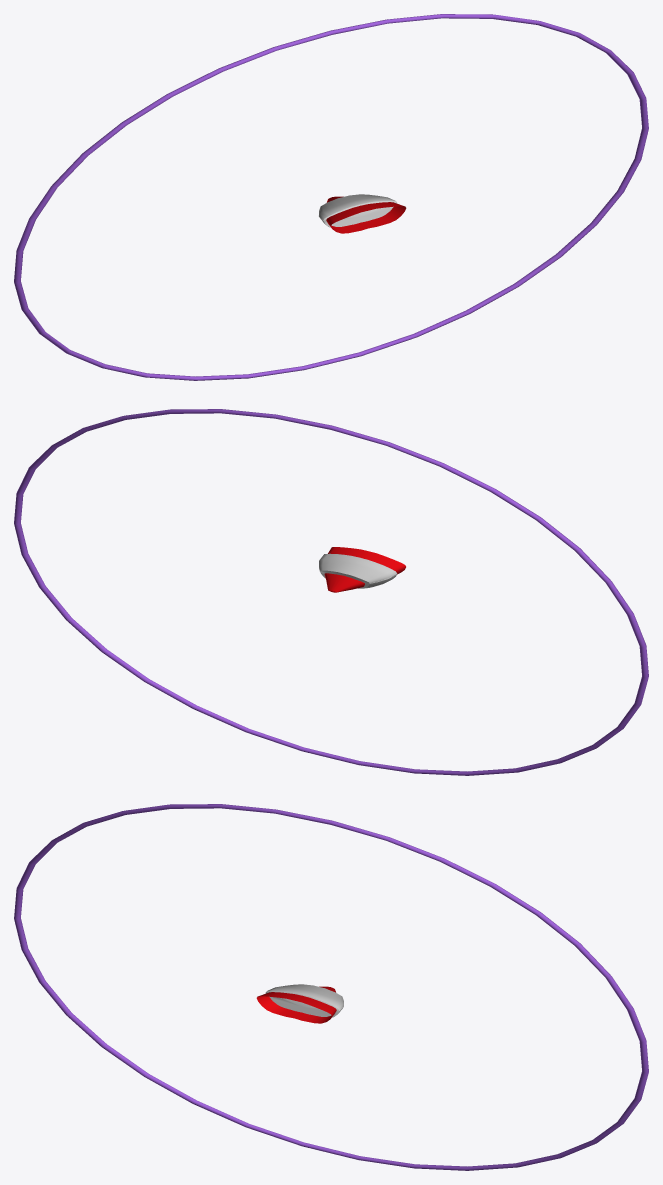
The model's file is controller-tip.glb.
3 views of the same model, one above another, from view 1: azimuth 30°, elevation 25°; view 2: azimuth 150°, elevation 25°; view 3: azimuth 330°, elevation 25° (orthographic).
Visible parts, largest first — view 1: sizehint, sheathe, tip; view 2: sizehint, sheathe, tip; view 3: sizehint, sheathe, tip.
Part boxes in pixels (box(x1,y1,x2,y2)): sizehint: box(14, 14, 648, 380); sheathe: box(319, 194, 397, 227); tip: box(326, 196, 406, 233); sizehint: box(14, 409, 648, 775); sheathe: box(319, 553, 397, 588); tip: box(324, 547, 405, 592); sizehint: box(14, 804, 648, 1170); sheathe: box(265, 984, 343, 1017); tip: box(256, 986, 336, 1023).
Bounding box in the file's own units: 0.2018 × 0.1008 × 0.0215.
